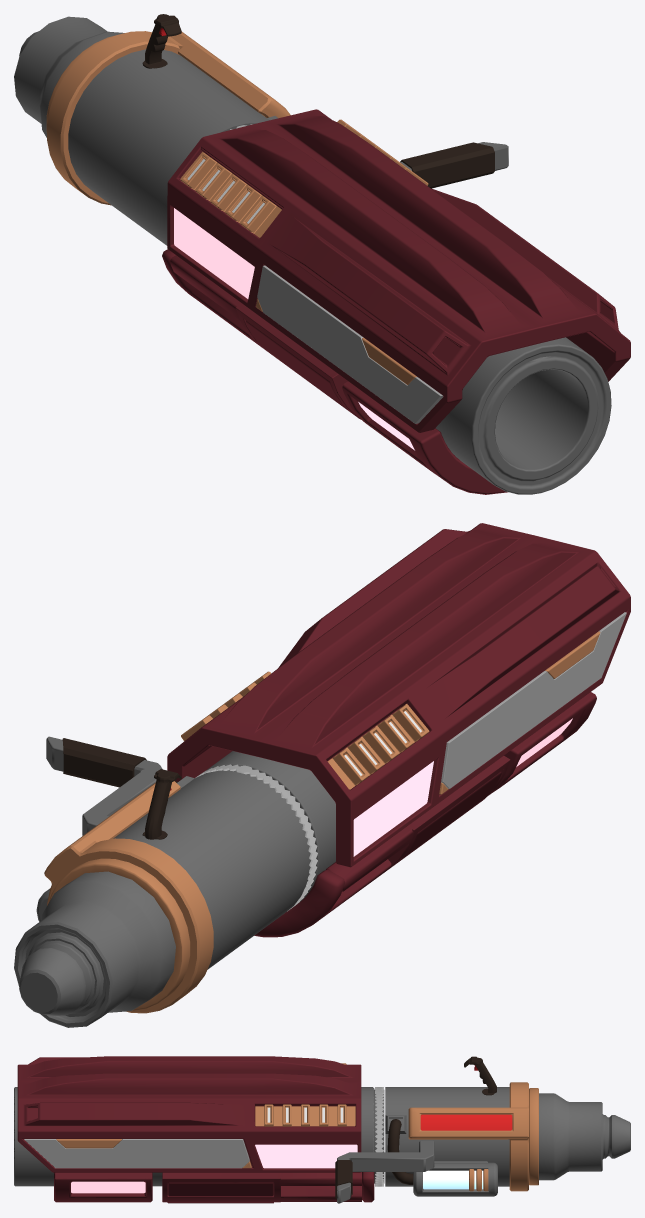
Rendered from EnergyWeapon2__lowpoly_GOOD_merged5.fbx.
3 views of the same model, one above another, from view 1: azimuth 30°, elevation 25°; view 2: azimuth 150°, elevation 25°; view 3: azimuth 270°, elevation 25° (orthographic). The views are drawn at different scales.
Visible parts, largest first — view 1: Cylinder.002, Cylinder.018, Plane.002, Screen_Edges, Cylinder.019, Cube.002, Cube.001; view 2: Cylinder.002, Cylinder.018, Cylinder.019, Screen_Edges, Plane.002, Cylinder.013, Cube.002, Cube, Cube.001; view 3: Cylinder.002, Cylinder.019, Cylinder.018, Plane.002, Screen_Edges, Cube, Cylinder.020, Screen, Cylinder.022, Cylinder.013, BezierCurve, Cube.001 (+3 smaller).
Boxes of the visible parts, bbox=[...] form: Cylinder.002: bbox=[162, 109, 630, 494]; Cylinder.018: bbox=[68, 49, 277, 245]; Plane.002: bbox=[257, 265, 443, 423]; Screen_Edges: bbox=[47, 31, 290, 205]; Cylinder.019: bbox=[14, 16, 124, 137]; Cube.002: bbox=[400, 142, 494, 188]; Cube.001: bbox=[142, 14, 181, 68]; Cylinder.002: bbox=[167, 523, 630, 937]; Cylinder.018: bbox=[113, 770, 309, 969]; Cylinder.019: bbox=[14, 871, 175, 1027]; Screen_Edges: bbox=[44, 781, 213, 1013]; Plane.002: bbox=[441, 612, 626, 788]; Cylinder.013: bbox=[49, 858, 190, 1010]; Cube.002: bbox=[62, 738, 146, 787]; Cube: bbox=[46, 736, 162, 835]; Cube.001: bbox=[142, 769, 181, 839]; Cylinder.002: bbox=[14, 1056, 383, 1203]; Cylinder.019: bbox=[539, 1093, 630, 1180]; Cylinder.018: bbox=[385, 1087, 509, 1186]; Plane.002: bbox=[24, 1139, 249, 1168]; Screen_Edges: bbox=[408, 1082, 528, 1191]; Cube: bbox=[337, 1140, 434, 1203]; Cylinder.020: bbox=[413, 1161, 497, 1196]; Screen: bbox=[420, 1114, 512, 1130]; Cylinder.022: bbox=[423, 1170, 483, 1189]; Cylinder.013: bbox=[529, 1088, 538, 1185]; BezierCurve: bbox=[387, 1119, 413, 1184]; Cube.001: bbox=[464, 1056, 496, 1095].
Bounding box in the file's own units: 72.25 × 49.5 × 194.
